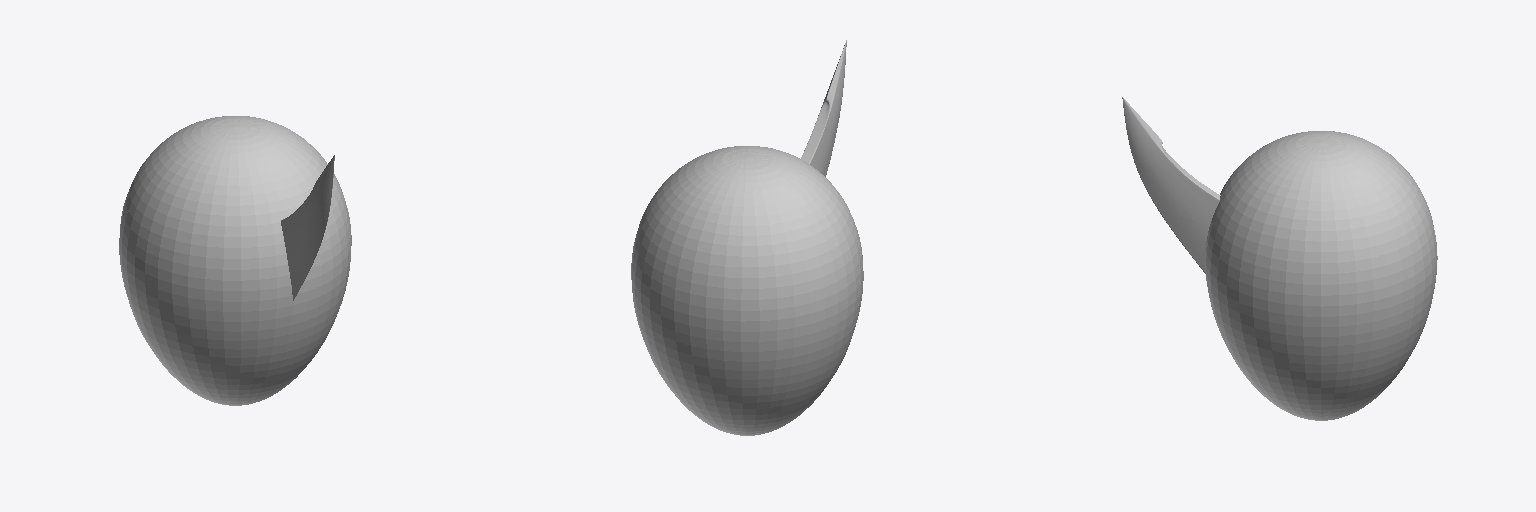
The model's file is digiEgg.obj.
3 views of the same model, side by side, from view 1: azimuth 30°, elevation 25°; view 2: azimuth 150°, elevation 25°; view 3: azimuth 270°, elevation 25° (orthographic).
Parts seen in each view (by area): view 1: MSH_Egg, MSH_Blade; view 2: MSH_Egg, MSH_Blade; view 3: MSH_Egg, MSH_Blade.
Boxes of the visible parts, <box> form: MSH_Egg: <box>119,116,351,405</box>; MSH_Blade: <box>281,155,334,300</box>; MSH_Egg: <box>631,146,863,435</box>; MSH_Blade: <box>801,40,846,176</box>; MSH_Egg: <box>1205,131,1437,420</box>; MSH_Blade: <box>1122,97,1220,273</box>.
Bounding box in the file's own units: 0.3642 × 0.548 × 0.4929.